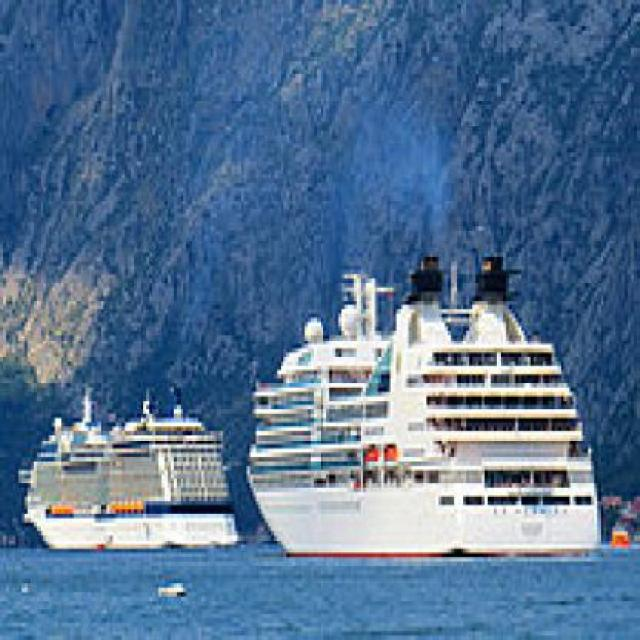cruise: (251, 240, 614, 576), (6, 380, 251, 563)
